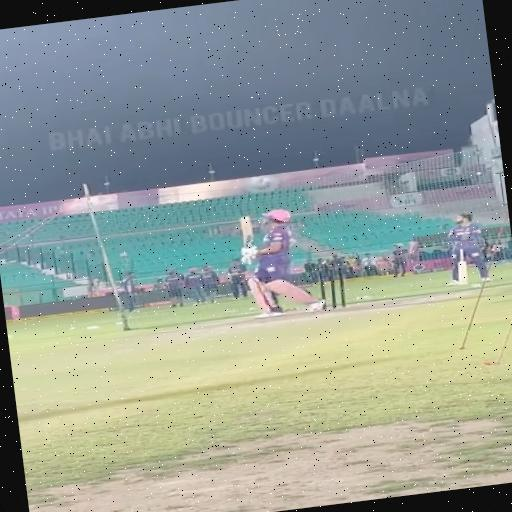Cricket bat: (240, 216, 250, 246)
